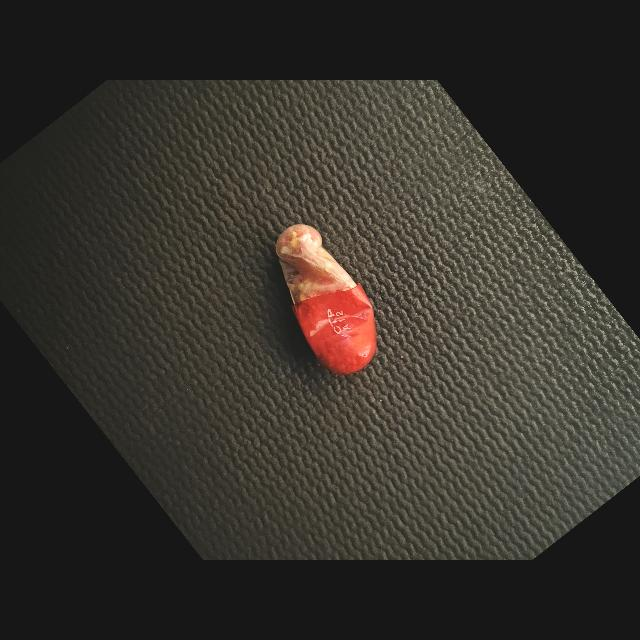Defective Capsule: (276, 224, 377, 374)
